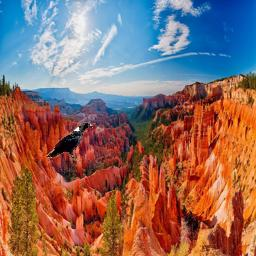Crow: (45, 122, 93, 161)
